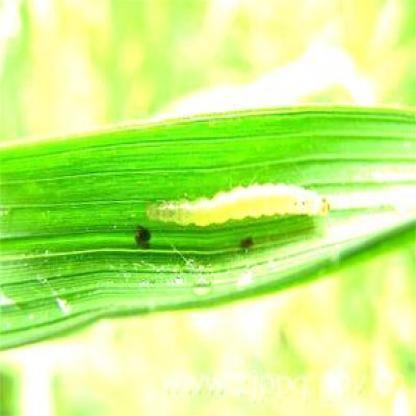leaf-folder: (152, 170, 333, 252)
